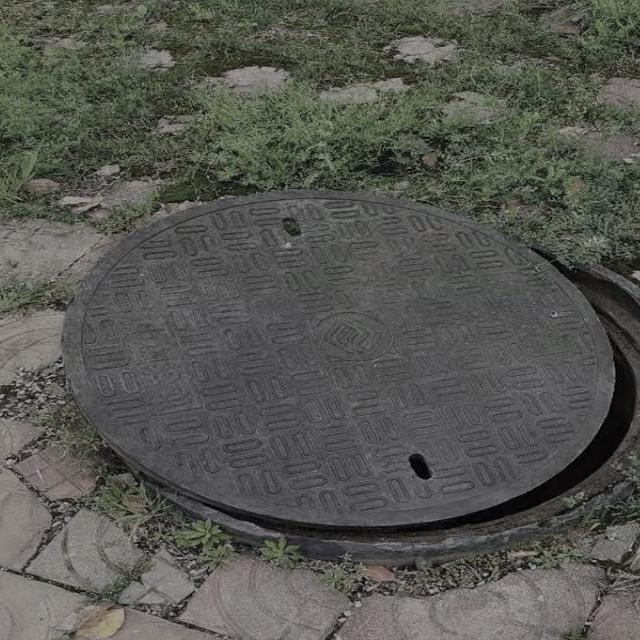uncovered: (60, 194, 640, 562)
